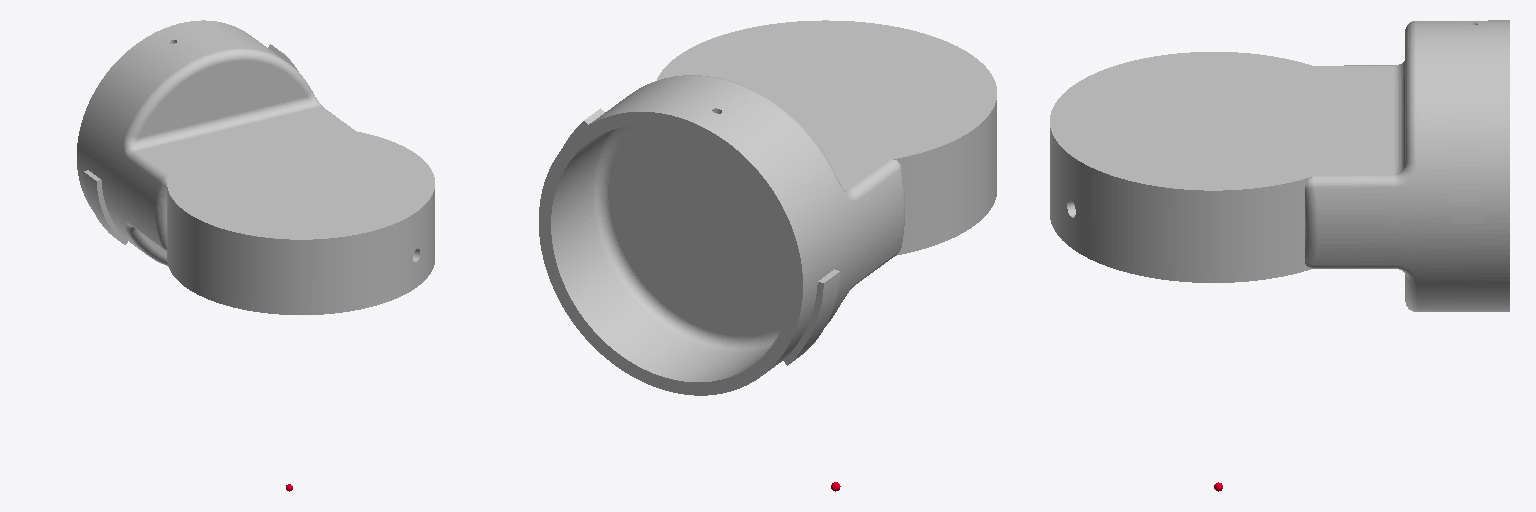
URDF robot description (universal_robot):
<?xml version="1.0"?>
<!--FOR GRIPPER, THERE IS NO LINK INERTIA DEFINED HERE-->
<robot name="universal_robot">

  <!-- Colors -->
  <material name="DarkGrey">
    <color rgba="0.2 0.2 0.2 1.0"/>
  </material>
  <material name="Grey">
    <color rgba="0.4 0.4 0.4 1.0"/>
  </material>
  <material name="Orange">
    <color rgba="1.0 0.423529411765 0.0392156862745 1.0"/>
  </material>
  <material name="Blue">
    <color rgba="0 0.1 1.0 1.0"/>
  </material>
  <material name="LightGrey">
    <color rgba="0.7 0.7 0.7 1.0"/>
  </material>
  <material name="Red">
    <color rgba="0.9 0 0.2 1.0"/>
  </material>
  <material name="TransparentRed">
    <color rgba="0.9 0 0.2 0.5"/>
  </material>
  <material name="Green">
    <color rgba="0 0.9 0.5 1.0"/>
  </material>
  <material name="Yellow">
    <color rgba="0.7 0.7 0 1.0"/>
  </material>
  <material name="LightBlue">
    <color rgba="0. 0.3 1.0 1.0"/>
  </material>
  <material name="Black">
    <color rgba="0.05 0.05 0.05 1.0"/>
  </material>
  <material name="White">
    <color rgba="1.0 1.0 1.0 1.0" />
  </material>



    <!-- connect arm to world -->
      <link name="world"/>
      <joint name="world_joint" type="fixed">
        <parent link="world"/>
        <child link="base_link"/>
        <origin rpy="0.0 0.0 -3.14" xyz="0.0 0.0 0.0"/>
      </joint>


      <link name="base_link">
        <visual>
          <geometry>
            <mesh filename="visual/base.obj"/>
          </geometry>
          <material name="LightGrey"/>
        </visual>
        <collision>
          <geometry>
            <mesh filename="collision/base.stl"/>
          </geometry>
        </collision>
        <inertial>
          <mass value="4.0"/>
          <origin rpy="0 0 0" xyz="0.0 0.0 0.0"/>
          <inertia ixx="0.00443333156" ixy="0.0" ixz="0.0" iyy="0.00443333156" iyz="0.0" izz="0.0072"/>
        </inertial>
      </link>

      <joint name="base_joint" type="revolute">
        <parent link="base_link"/>
        <child link="shoulder_link"/>
        <origin rpy="0.0 0.0 0.0" xyz="0.0 0.0 0.089159"/>
        <axis xyz="0 0 1"/>
        <limit effort="150.0" lower="-100" upper="100" velocity="3.15"/>
        <dynamics damping="0.5" friction="0.0"/>
      </joint>

      <link name="shoulder_link">
        <visual>
          <geometry>
            <mesh filename="visual/shoulder.obj"/>
          </geometry>
          <material name="DarkGrey"/>
        </visual>
        <collision>
          <geometry>
            <mesh filename="collision/shoulder.stl"/>
          </geometry>
        </collision>
        <inertial>
          <mass value="3.7"/>
          <origin rpy="0 0 0" xyz="0.0 0.0 0.0"/>
          <inertia ixx="0.010267495893" ixy="0.0" ixz="0.0" iyy="0.010267495893" iyz="0.0" izz="0.00666"/>
        </inertial>
      </link>

      <joint name="shoulder_joint" type="revolute">
        <parent link="shoulder_link"/>
        <child link="upper_arm_link"/>
        <origin rpy="0.0 1.57079632679 0.0" xyz="0.0 0.13585 0.0"/>
        <axis xyz="0 1 0"/>
        <limit effort="150.0" lower="-100" upper="100" velocity="3.15"/>
        <dynamics damping="0.5" friction="0.0"/>
      </joint>

      <link name="upper_arm_link">
        <visual>
          <geometry>
            <mesh filename="visual/upperarm.obj"/>
          </geometry>
          <material name="LightGrey"/>
        </visual>
        <collision>
          <geometry>
            <mesh filename="collision/upperarm.stl"/>
          </geometry>
        </collision>
        <inertial>
          <mass value="8.393"/>
          <origin rpy="0 0 0" xyz="0.0 0.0 0.28"/>
          <inertia ixx="0.22689067591" ixy="0.0" ixz="0.0" iyy="0.22689067591" iyz="0.0" izz="0.0151074"/>
        </inertial>
      </link>

      <joint name="elbow_joint" type="revolute">
        <parent link="upper_arm_link"/>
        <child link="forearm_link"/>
        <origin rpy="0.0 0.0 0.0" xyz="0.0 -0.1197 0.425"/>
        <axis xyz="0 1 0"/>
        <limit effort="150.0" lower="-100" upper="100" velocity="3.15"/>
        <dynamics damping="0.5" friction="0.0"/>
      </joint>

      <link name="forearm_link">
        <visual>
          <geometry>
            <mesh filename="visual/forearm.obj"/>
          </geometry>
          <material name="DarkGrey"/>
        </visual>
        <collision>
          <geometry>
            <mesh filename="collision/forearm.stl"/>
          </geometry>
        </collision>
        <inertial>
          <mass value="2.275"/>
          <origin rpy="0 0 0" xyz="0.0 0.0 0.25"/>
          <inertia ixx="0.049443313556" ixy="0.0" ixz="0.0" iyy="0.049443313556" iyz="0.0" izz="0.004095"/>
        </inertial>
      </link>

      <joint name="wrist_1_joint" type="revolute">
        <parent link="forearm_link"/>
        <child link="wrist_1_link"/>
        <origin rpy="0.0 1.57079632679 0.0" xyz="0.0 0.0 0.39225"/>
        <axis xyz="0 1 0"/>
        <limit effort="28.0" lower="-100" upper="100" velocity="3.2"/>
        <dynamics damping="0.5" friction="0.0"/>
      </joint>

      <link name="wrist_1_link">
        <visual>
          <geometry>
            <mesh filename="visual/wrist1.obj"/>
          </geometry>
          <material name="LightGrey"/>
        </visual>
        <collision>
          <geometry>
            <mesh filename="collision/wrist1.stl"/>
          </geometry>
        </collision>
        <inertial>
          <mass value="1.219"/>
          <origin rpy="0 0 0" xyz="0.0 0.0 0.0"/>
          <inertia ixx="0.111172755531" ixy="0.0" ixz="0.0" iyy="0.111172755531" iyz="0.0" izz="0.21942"/>
        </inertial>
      </link>

      <joint name="wrist_2_joint" type="revolute">
        <parent link="wrist_1_link"/>
        <child link="wrist_2_link"/>
        <origin rpy="0.0 0.0 0.0" xyz="0.0 0.093 0.0"/>
        <axis xyz="0 0 1"/>
        <limit effort="28.0" lower="-100" upper="100" velocity="3.2"/>
        <dynamics damping="0.5" friction="0.0"/>
      </joint>

      <link name="wrist_2_link">
        <visual>
          <geometry>
            <mesh filename="visual/wrist2.obj"/>
          </geometry>
          <material name="DarkGrey"/>
        </visual>
        <collision>
          <geometry>
            <mesh filename="collision/wrist2.stl"/>
          </geometry>
        </collision>
        <inertial>
          <mass value="1.219"/>
          <origin rpy="0 0 0" xyz="0.0 0.0 0.0"/>
          <inertia ixx="0.111172755531" ixy="0.0" ixz="0.0" iyy="0.111172755531" iyz="0.0" izz="0.21942"/>
        </inertial>
      </link>

      <joint name="wrist_3_joint" type="revolute">
        <parent link="wrist_2_link"/>
        <child link="wrist_3_link"/>
        <origin rpy="0.0 0.0 0.0" xyz="0.0 0.0 0.09465"/>
        <axis xyz="0 1 0"/>
        <limit effort="28.0" lower="-100" upper="100" velocity="3.2"/>
        <dynamics damping="0.5" friction="0.0"/>
      </joint>

      <link name="wrist_3_link">
        <visual>
          <geometry>
            <mesh filename="visual/wrist3.obj"/>
          </geometry>
          <material name="LightGrey"/>
        </visual>
        <collision>
          <geometry>
            <mesh filename="collision/wrist3.stl"/>
          </geometry>
        </collision>
        <inertial>
          <mass value="0.1879"/>
          <origin rpy="0 0 0" xyz="0.0 0.0 0.0"/>
          <inertia ixx="0.0171364731454" ixy="0.0" ixz="0.0" iyy="0.0171364731454" iyz="0.0" izz="0.033822"/>
        </inertial>
      </link>

      <!-- End Effector -->

      <joint name="ee_joint" type="fixed">
        <parent link="wrist_3_link"/>
        <child link="ee_link"/>
        <origin rpy="1.57 3.14 0.0" xyz="0.0 0.0823 0.0"/>
      </joint>

      <link name="ee_link">
        <visual>
          <origin rpy="0 0 0" xyz="0 0 0"/>
          <geometry>
            <sphere radius="0.001"/>
          </geometry>
           <material name="Red"/>
        </visual>
        <collision>
          <geometry>
            <sphere radius="0.001"/>
          </geometry>
          <origin rpy="0 0 0" xyz="0.0 0 0"/>
        </collision>
        <inertial>
          <mass value="0.0"/>
          <origin rpy="-3.14 0.0 1.57" xyz="0.0 0.0 0.0"/>
          <inertia ixx="0.001" ixy="0.0" ixz="0.0" iyy="0.001" iyz="0.0" izz="0.001"/>
        </inertial>
      </link>

      <!-- TacTip -->

      <link name="tactip_adapter_link">
        <inertial>
          <origin rpy="0 0 0" xyz="0 0 0"/>
           <mass value="0.1"/>
           <inertia ixx="0.001" ixy="0" ixz="0" iyy="0.001" iyz="0" izz="0.001"/>
        </inertial>
        <visual>
          <origin rpy="0 0 0" xyz="0 0 0"/>
          <geometry>
    				<mesh filename="../tactip/right_angle_tactip/adapter/right_angle_adapter.obj" scale="1.0 1.0 1.0"/>
          </geometry>
           <material name="whitish">
            <color rgba="0.8 0.8 0.8 1.0"/>
          </material>
        </visual>
        <collision>
          <origin rpy="0 0 0" xyz="0 0 0"/>
          <geometry>
    				<mesh filename="../tactip/right_angle_tactip/adapter/right_angle_adapter.obj" scale="1.0 1.0 1.0"/>
          </geometry>
        </collision>
      </link>

      <joint name="tactip_ee_joint" type="fixed">
        <parent link="ee_link"/>
        <child link="tactip_adapter_link"/>
        <origin rpy="-1.57 -1.57 3.14" xyz="0.0 0.005 -0.04"/>
      </joint>

      <link name="tactip_body_link">
        <inertial>
          <origin rpy="0 0 0" xyz="0 0 0"/>
           <mass value="0.25"/>
           <inertia ixx="0.001" ixy="0" ixz="0" iyy="0.001" iyz="0" izz="0.001"/>
        </inertial>
        <visual>
          <origin rpy="0 0 0" xyz="0 0 0"/>
          <geometry>
    				<mesh filename="../tactip/standard_tactip/body/tactip_body.obj" scale="1.0 1.0 1.0"/>
          </geometry>
           <material name="whitish">
            <color rgba="0.8 0.8 0.8 1.0"/>
          </material>
        </visual>
        <collision>
          <origin rpy="0 0 0" xyz="0 0 0"/>
          <geometry>
    				<mesh filename="../tactip/standard_tactip/body/tactip_body.obj" scale="1.0 1.0 1.0"/>
          </geometry>
        </collision>
      </link>

      <joint name="tactip_body_to_adapter" type="fixed">
         <origin rpy="0 0 0" xyz="0 0 0"/>
         <parent link="tactip_adapter_link"/>
         <child link="tactip_body_link"/>
      </joint>

      <link name="tactip_tip_link">
        <contact>
          <friction_anchor/>
          <lateral_friction value="1.0"/>
        </contact>
        <inertial>
          <origin rpy="0 0 0" xyz="0 0 0"/>
           <mass value=".1"/>
           <inertia ixx="1" ixy="0" ixz="0" iyy="1" iyz="0" izz="1"/>
        </inertial>
        <visual>
          <origin rpy="0 0 0" xyz="0 0 0"/>
          <geometry>
            <mesh filename="../tactip/standard_tactip/tip/skin.obj" scale="1.0 1.0 1.0"/>
          </geometry>
           <material name="black">
            <color rgba="0.0 0.0 0.0 1.0"/>
          </material>
        </visual>
        <collision>
          <origin rpy="0 0 0" xyz="0 0 0"/>
          <geometry>
            <mesh filename="../tactip/standard_tactip/tip/core.obj" scale="1 1 1"/>
          </geometry>
        </collision>
      </link>

      <joint name="tactip_tip_to_body" type="fixed">
         <origin rpy="1.57 0 0" xyz="0 0 0.065"/>
         <axis xyz="0 1 0"/>
         <parent link="tactip_body_link"/>
         <child link="tactip_tip_link"/>
      </joint>

      <!-- TCP -->
      <link name="tcp_link">
        <visual>
          <origin rpy="0 0 0" xyz="0 0 0"/>
          <geometry>
            <sphere radius="0.001"/>
          </geometry>
           <material name="TransparentRed"/>
        </visual>
        <inertial>
          <mass value="0.0"/>
          <origin rpy="0.0 -1.57 0.0" xyz="0.0 0.0 0.0"/>
          <inertia ixx="1.0" ixy="0.0" ixz="0.0" iyy="1.0" iyz="0.0" izz="1.0"/>
        </inertial>
      </link>

      <joint name="tcp_joint" type="fixed">
        <parent link="tactip_body_link"/>
        <child link="tcp_link"/>
        <origin rpy="0 0 0" xyz="0.0 0.0 0.085"/>
      </joint>

</robot>

--- Facts derived from the render (not from the file) ---
3 views of the same robot in one strip: view 1: azimuth 30°, elevation 25°; view 2: azimuth 150°, elevation 25°; view 3: azimuth 270°, elevation 25° (orthographic).
Model universal_robot with 13 links and 12 joints (6 revolute, 6 fixed), rooted at world, posed every joint at zero.
Links seen in each view (by area): view 1: tactip_adapter_link; view 2: tactip_adapter_link; view 3: tactip_adapter_link.
Link boxes in pixels (bbox=[...]): tactip_adapter_link: bbox=[77, 20, 434, 314]; tactip_adapter_link: bbox=[539, 20, 996, 395]; tactip_adapter_link: bbox=[1050, 20, 1509, 311].
Bounding box of the posed robot: 0.072 × 0.101 × 0.112 m (x, y, z).
Meshes: 10 distinct files referenced, 1 mesh visuals loaded (1 OBJ); not drawn: 9 (reference not matched to a file when rendering).